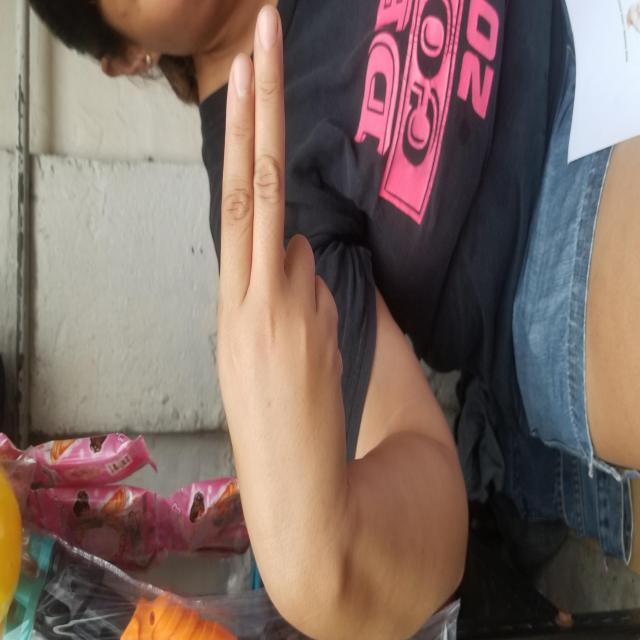H: (129, 217, 634, 348)
